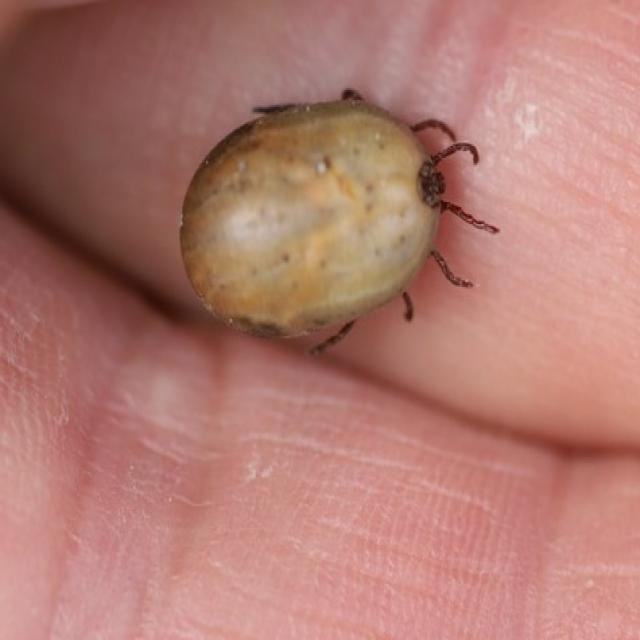Dermacentor Reticulatus-F-Fed: (179, 90, 499, 355)
